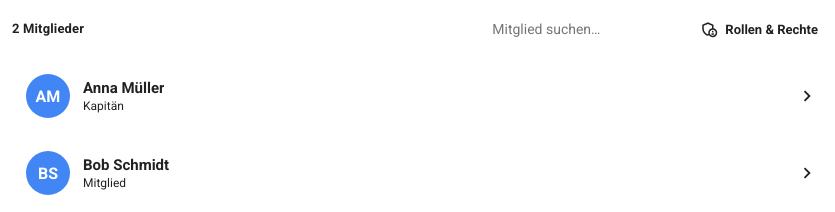
Test: MembersPage › filters members by search query
Type "Anna" into the search field with placeholder "Mitglied suchen…" at (578, 29), box [478,13,678,45]
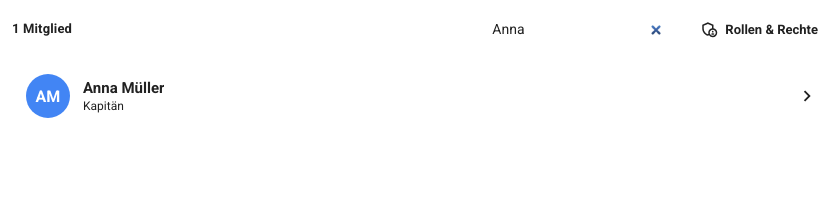
Expected: the text "Anna Müller" is shown, [83,79,164,97]
Result: the button "Bob Schmidt" is gone
